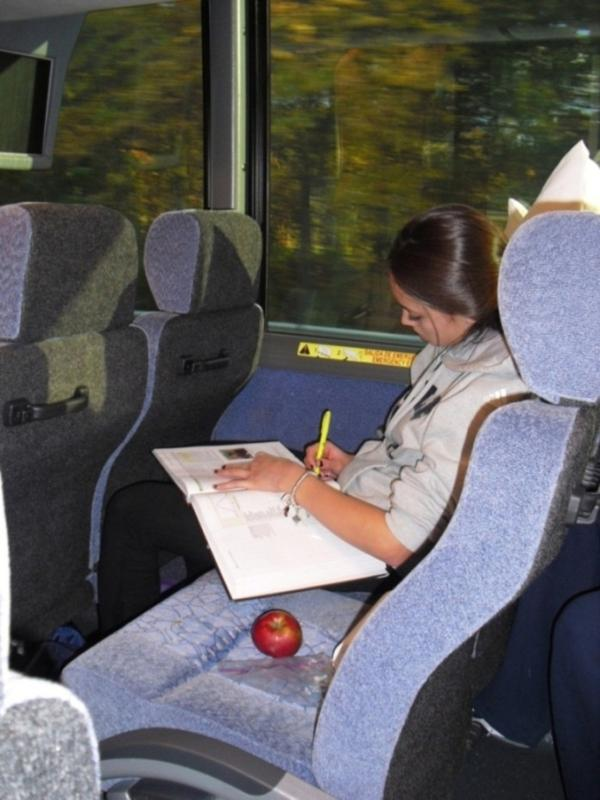person: (216, 201, 506, 577)
